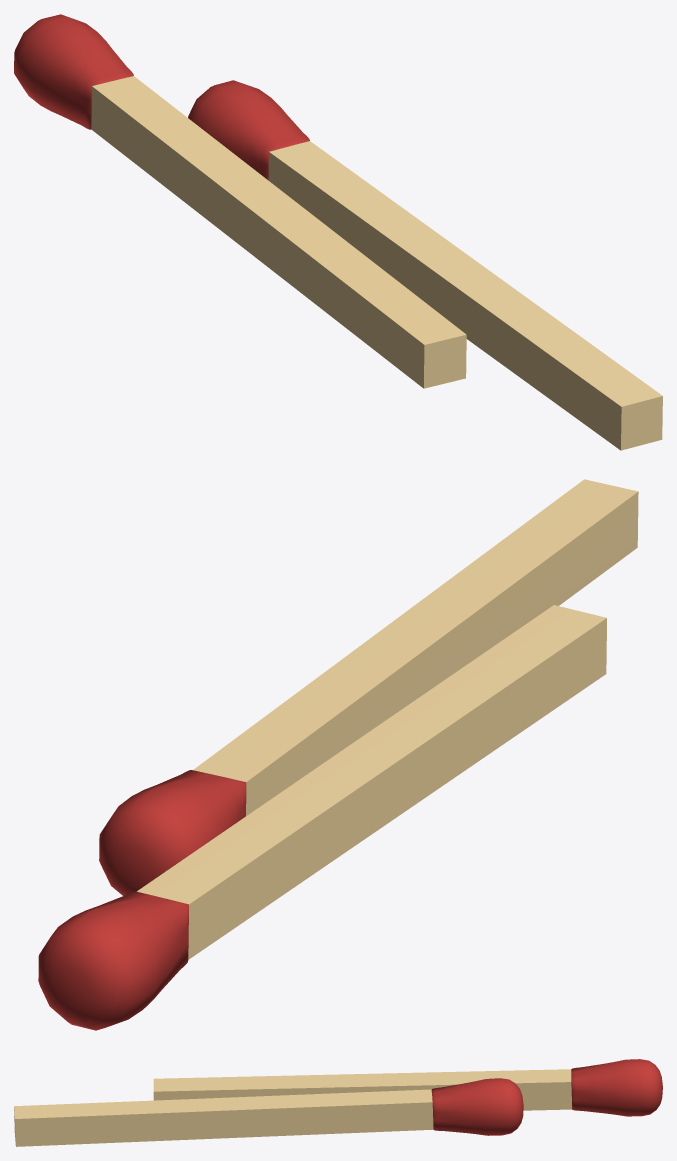
Rendered from OT_183_matches.glb.
3 renders of one model, top to bottom at view 1: azimuth 30°, elevation 25°; view 2: azimuth 150°, elevation 25°; view 3: azimuth 270°, elevation 25°, orthographic. The views are drawn at different scales.
Parts seen in each view (by area): view 1: match1, match2; view 2: match1, match2; view 3: match2, match1.
Part boxes in pixels (x1,y1,x2,y2): match1: (14,14,466,388); match2: (188,80,662,450); match1: (38,605,606,1030); match2: (99,479,638,895); match2: (14,1078,523,1146); match1: (153,1059,662,1116).
Size of the model in its own units: 0.3631 by 0.1959 by 2.23.
